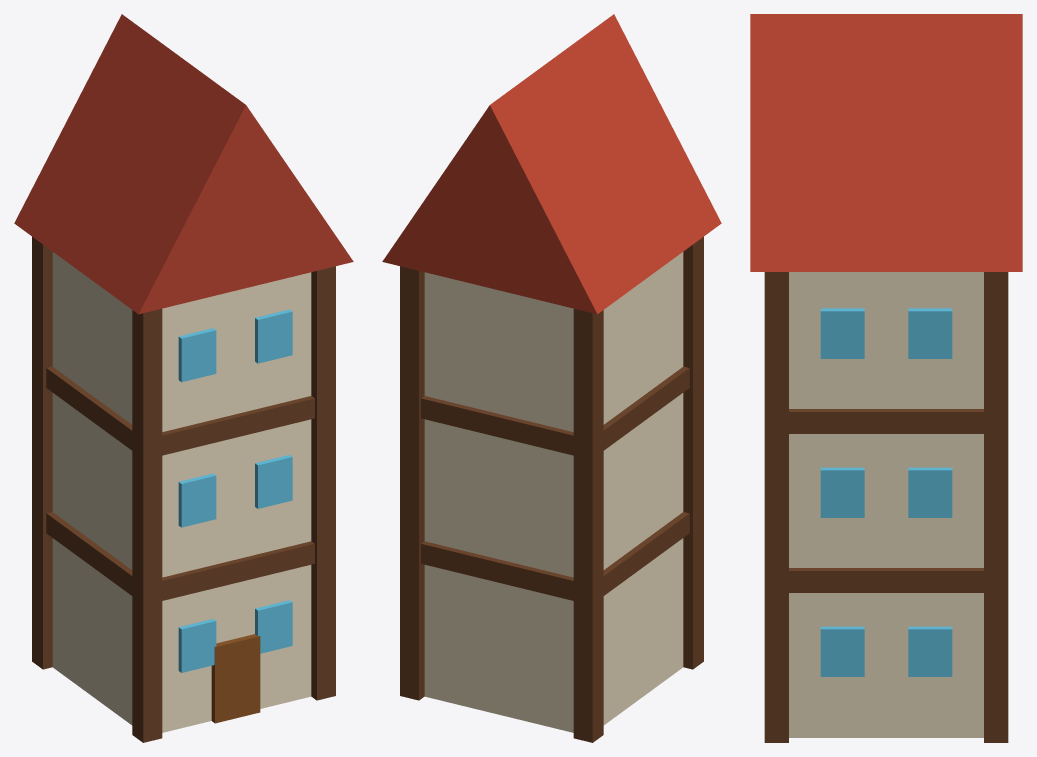
File: mill.glb
3 renders of one model, left to right at view 1: azimuth 30°, elevation 25°; view 2: azimuth 150°, elevation 25°; view 3: azimuth 270°, elevation 25°, orthographic. The views are drawn at different scales.
Visible parts, largest first — view 1: beams; view 2: beams; view 3: beams.
Part boxes in pixels (<box>): beams: <box>14,14,353,742</box>; beams: <box>382,14,721,742</box>; beams: <box>750,14,1022,742</box>.
Bounding box in the file's own units: 1.24 × 3.41 × 1.24.
